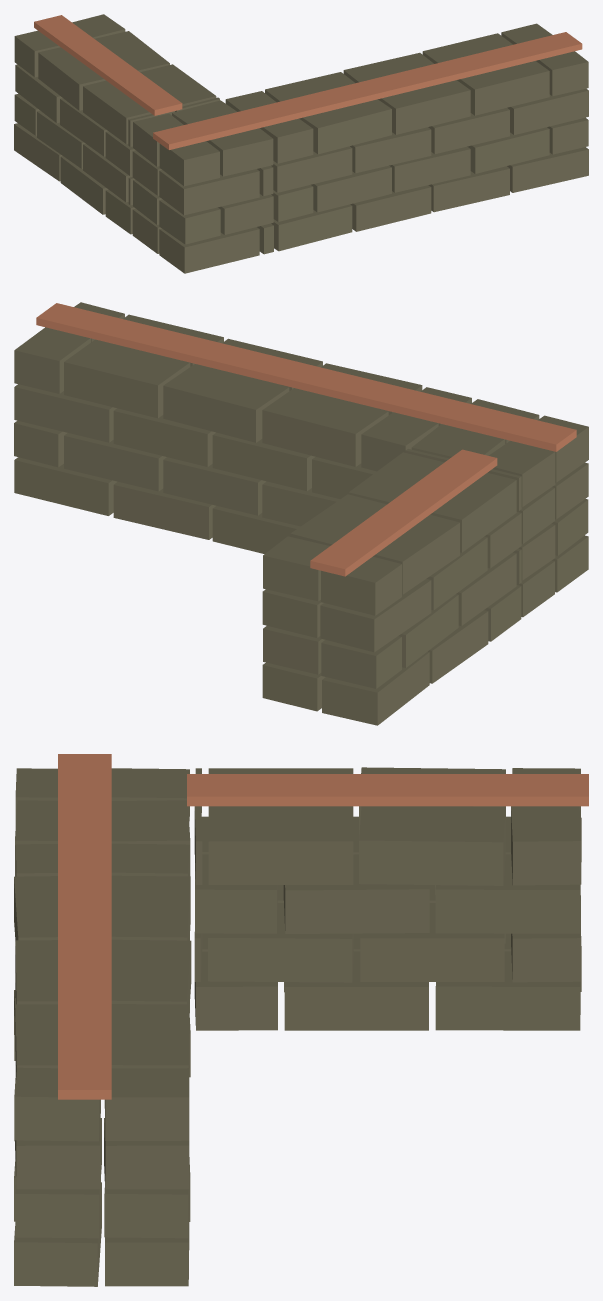
File: SM_PretilEsquinaPaso_v3_Tablon_e0_Sano_LOD0.fbx
3 views of the same model, one above another, from view 1: azimuth 30°, elevation 25°; view 2: azimuth 150°, elevation 25°; view 3: azimuth 270°, elevation 25° (orthographic). The views are drawn at different scales.
Parts seen in each view (by area): view 1: SM_pretil_azotea_v52_LOD0; view 2: SM_pretil_azotea_v52_LOD0; view 3: SM_pretil_azotea_v52_LOD0.
Boxes of the visible parts, <box> form: SM_pretil_azotea_v52_LOD0: <box>14,14,588,273</box>; SM_pretil_azotea_v52_LOD0: <box>14,302,588,725</box>; SM_pretil_azotea_v52_LOD0: <box>14,754,588,1286</box>.
Size of the model in its own units: 4.46 by 1.24 by 3.22.
